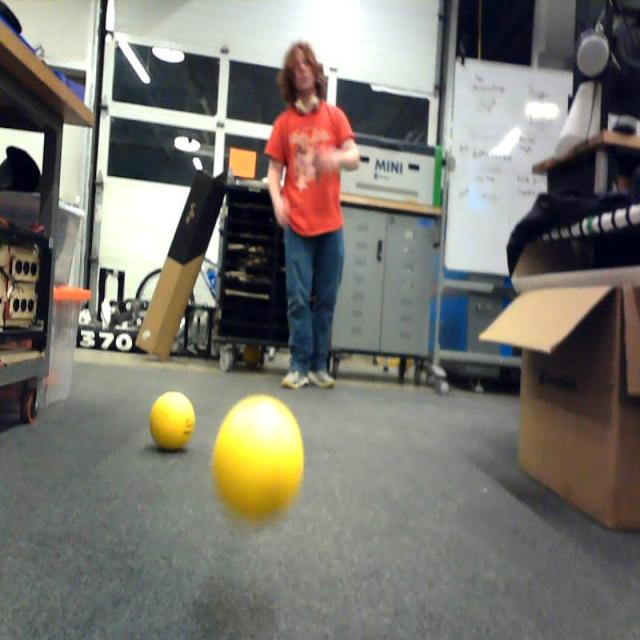Fuel: (211, 395, 303, 521), (150, 391, 196, 451)
